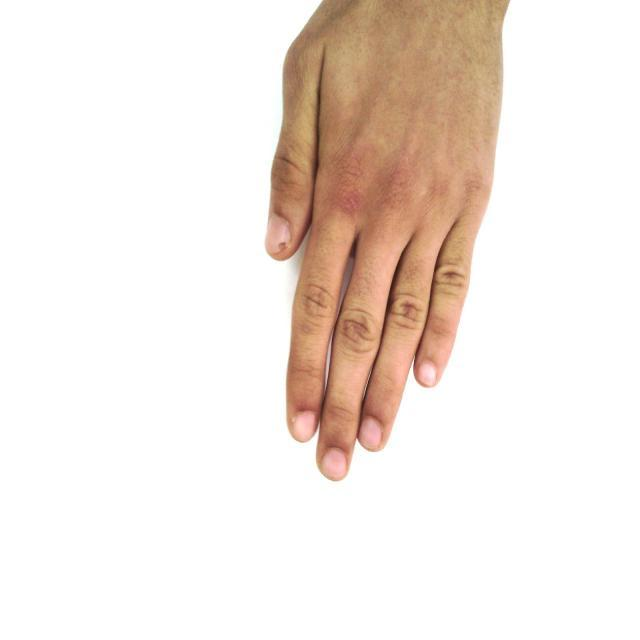Fingernail: (267, 215, 290, 252), (322, 449, 346, 479), (360, 419, 382, 450), (293, 412, 315, 440), (418, 361, 436, 384)
